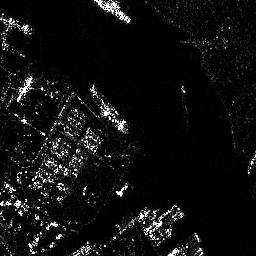ship: (86, 85, 129, 133), (101, 1, 135, 24), (1, 12, 32, 34), (14, 75, 34, 103)
